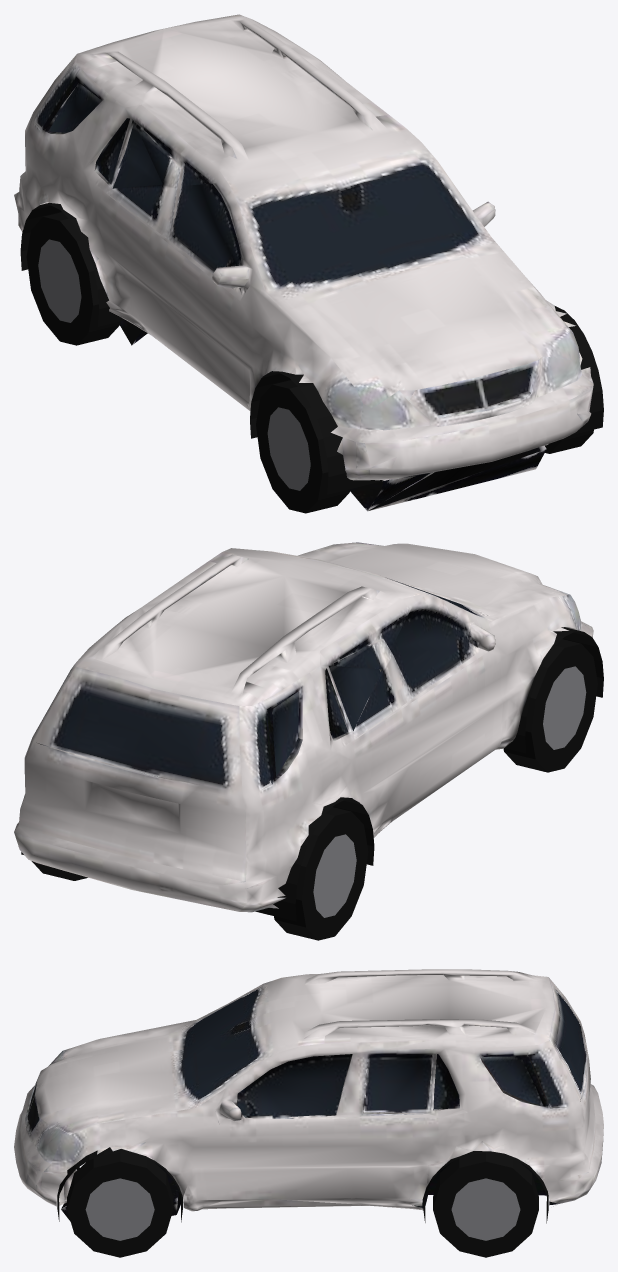
Rendered from suv-white.glb.
3 views of the same model, one above another, from view 1: azimuth 30°, elevation 25°; view 2: azimuth 150°, elevation 25°; view 3: azimuth 270°, elevation 25° (orthographic). The views are drawn at different scales.
Visible parts, largest first — view 1: suv, wheel_rr, wheel_fr; view 2: suv, wheel_fr, wheel_rr; view 3: suv, wheel_fl, wheel_rl.
Boxes of the visible parts, bbox=[...] form: suv: bbox=[14, 14, 603, 511]; wheel_rr: bbox=[26, 212, 120, 345]; wheel_fr: bbox=[256, 380, 350, 513]; suv: bbox=[14, 542, 603, 921]; wheel_fr: bbox=[503, 639, 597, 772]; wheel_rr: bbox=[274, 807, 368, 940]; suv: bbox=[14, 969, 603, 1223]; wheel_fl: bbox=[67, 1152, 173, 1257]; wheel_rl: bbox=[433, 1152, 538, 1257].
Size of the model in its own units: 2.08 by 1.87 by 4.7.
1 material, 1 textured.
